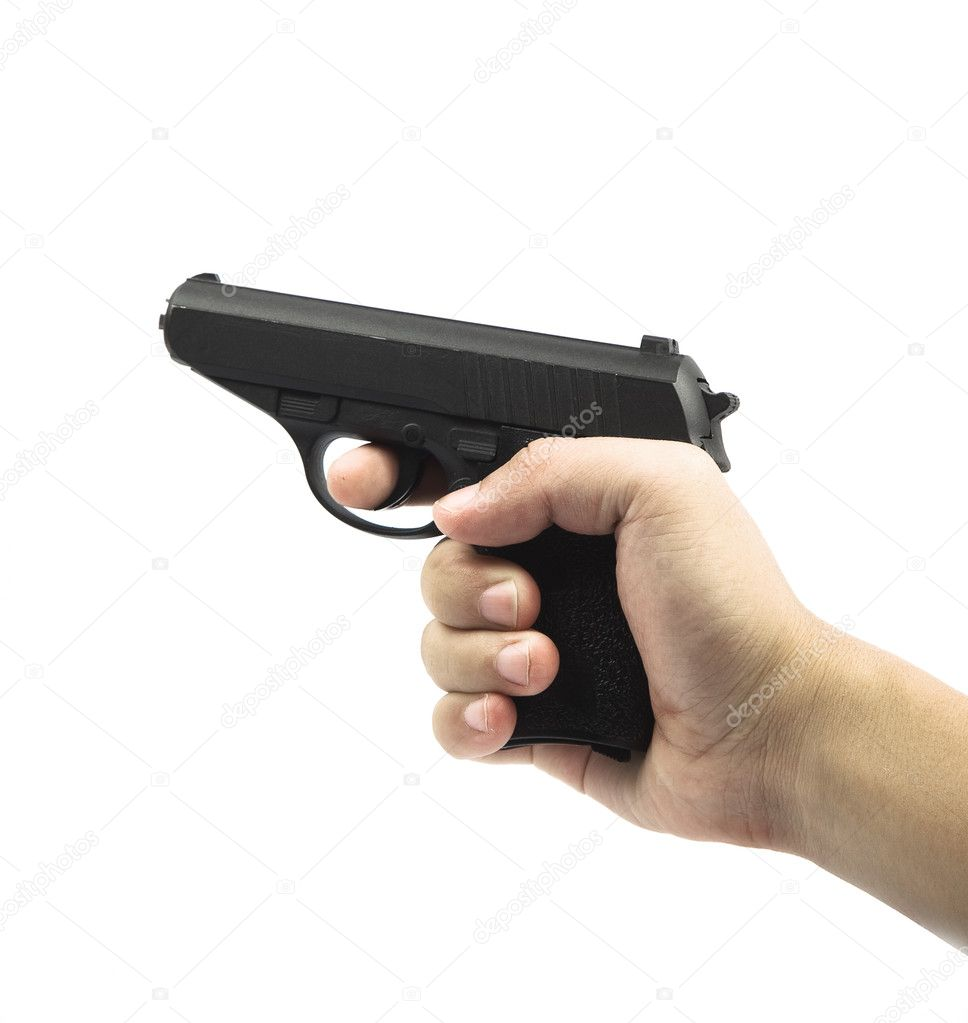pistol: (121, 169, 862, 969)
